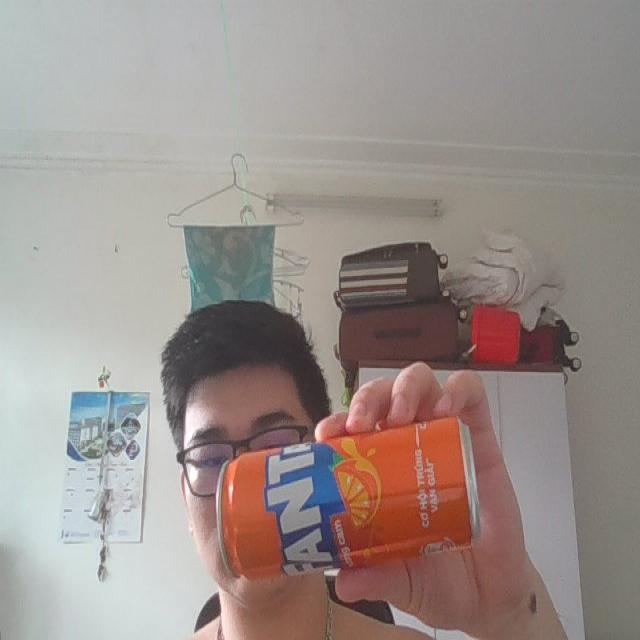Fanta: (216, 415, 484, 585)
